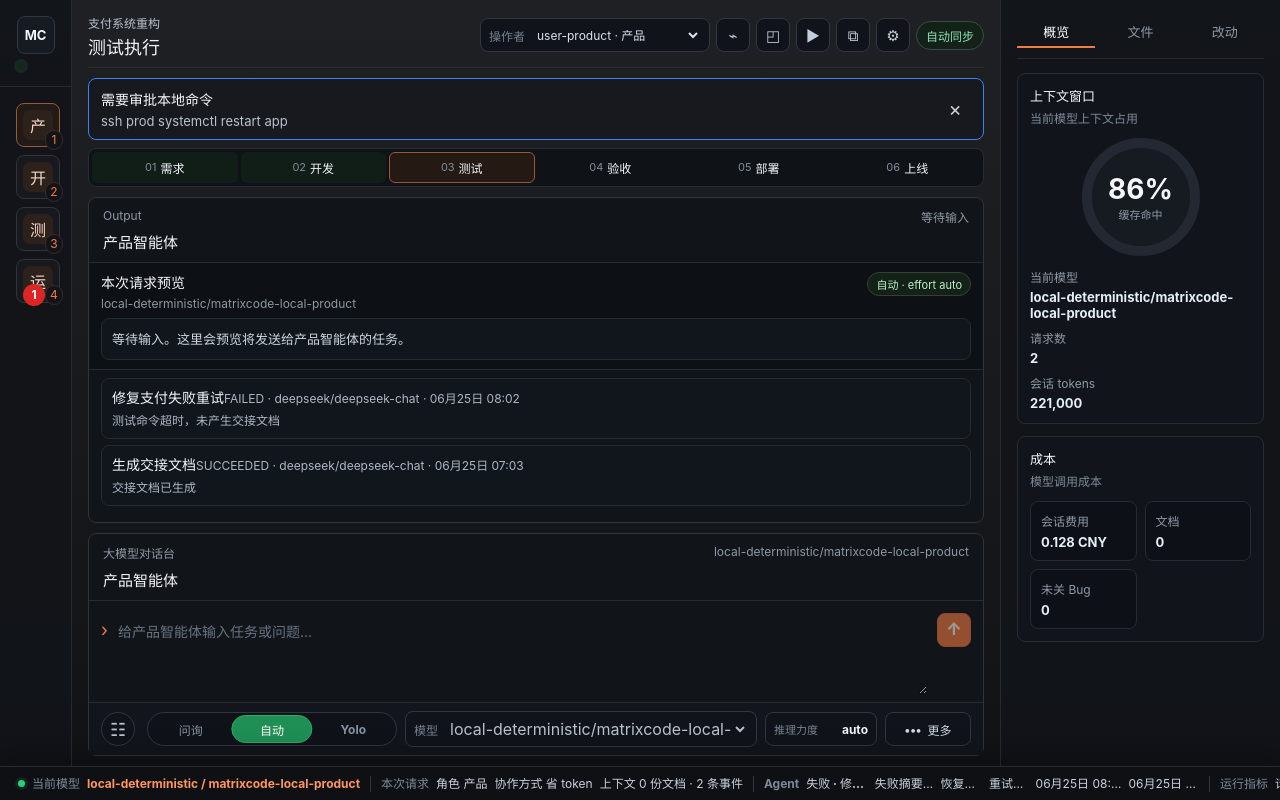
MatrixCode 桌面工作台 › 运行中心可以选择历史 Agent 运行并查看对应模型请求 trace
The image size is (1280, 800).
Expected: the text "支付系统重构" is shown, x1=88 y1=16 x2=160 y2=33
Click the button named "运行": (813,35) x1=796 y1=18 x2=830 y2=52
(page scrolled)
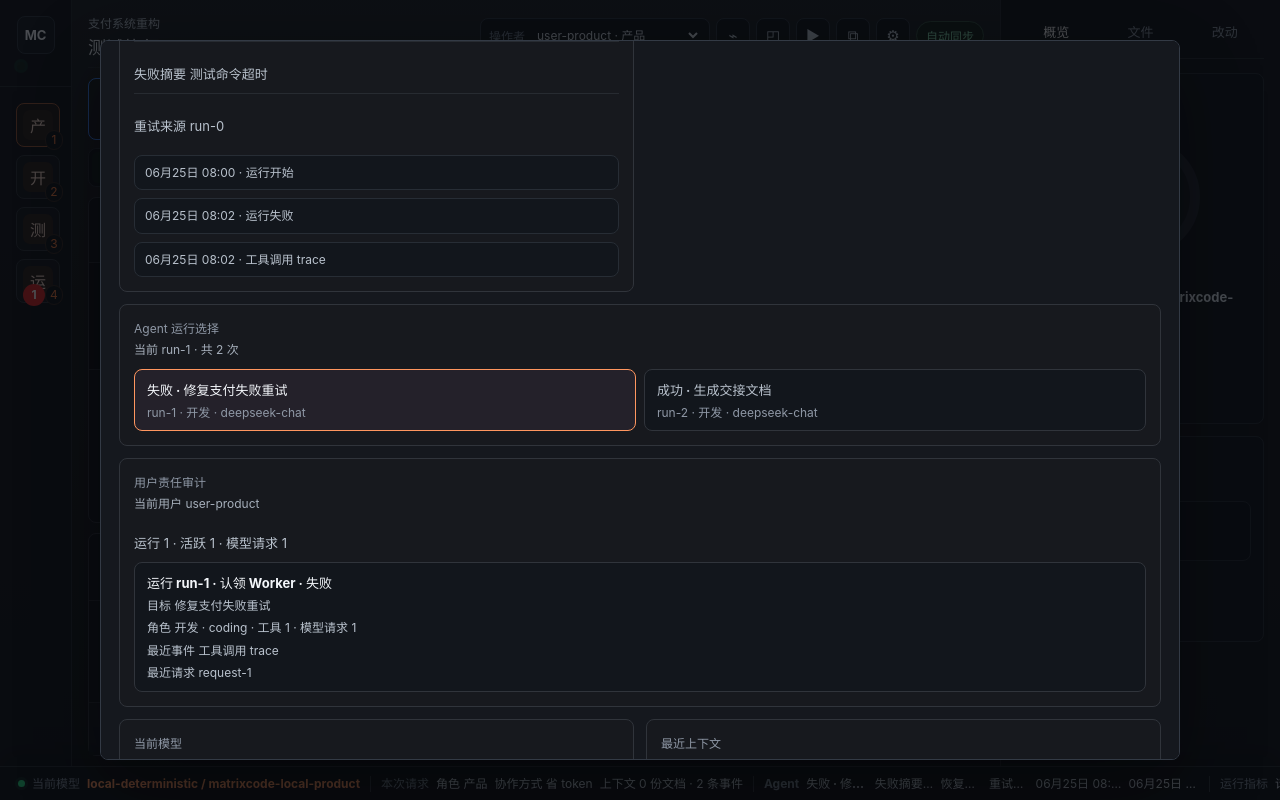
Click the button "成功 · 生成交接文档 run-2 · 开发 · deepseek-chat": (733,390) x1=644 y1=369 x2=1146 y2=431
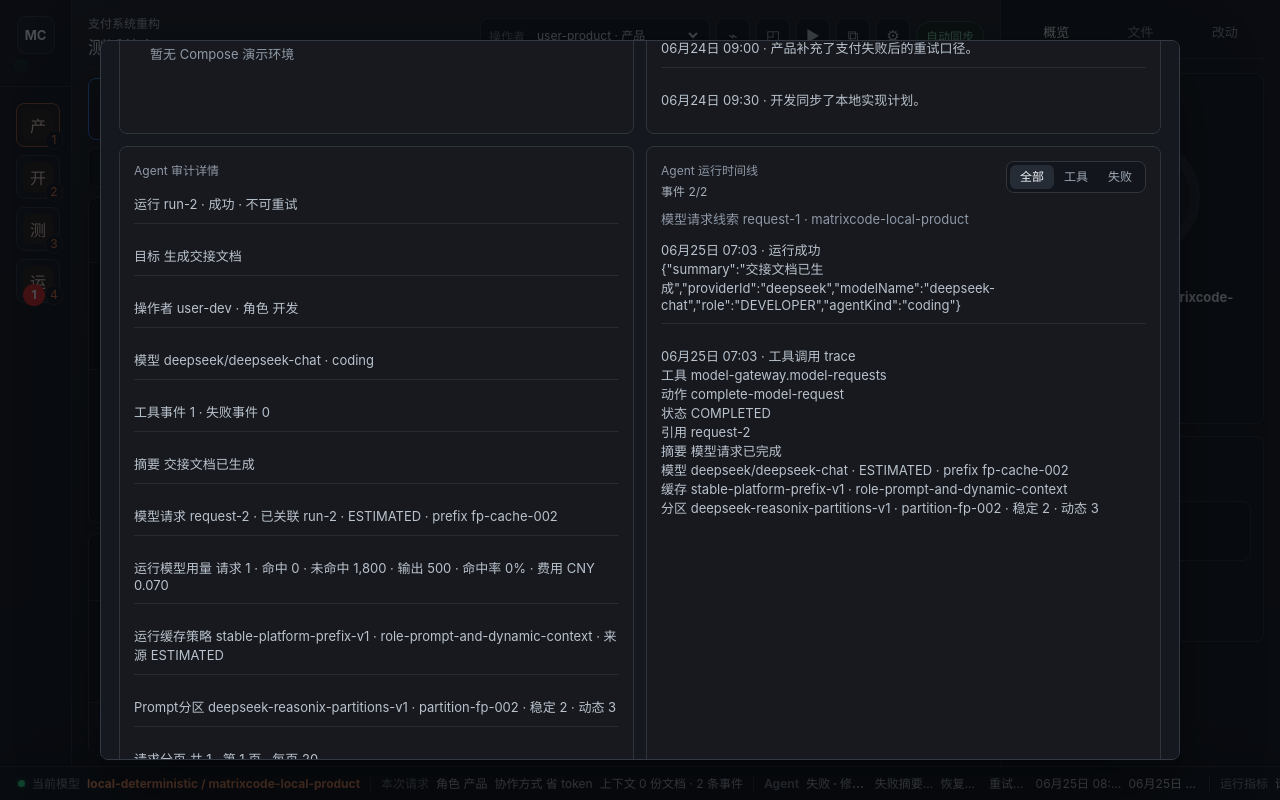
Now the text "运行 run-2 · 成功 · 不可重试" is shown, box x1=134 y1=194 x2=298 y2=212
Now the text "目标 生成交接文档" is shown, box x1=134 y1=246 x2=242 y2=264
Now the text "摘要 交接文档已生成" is shown, box x1=134 y1=454 x2=255 y2=472
